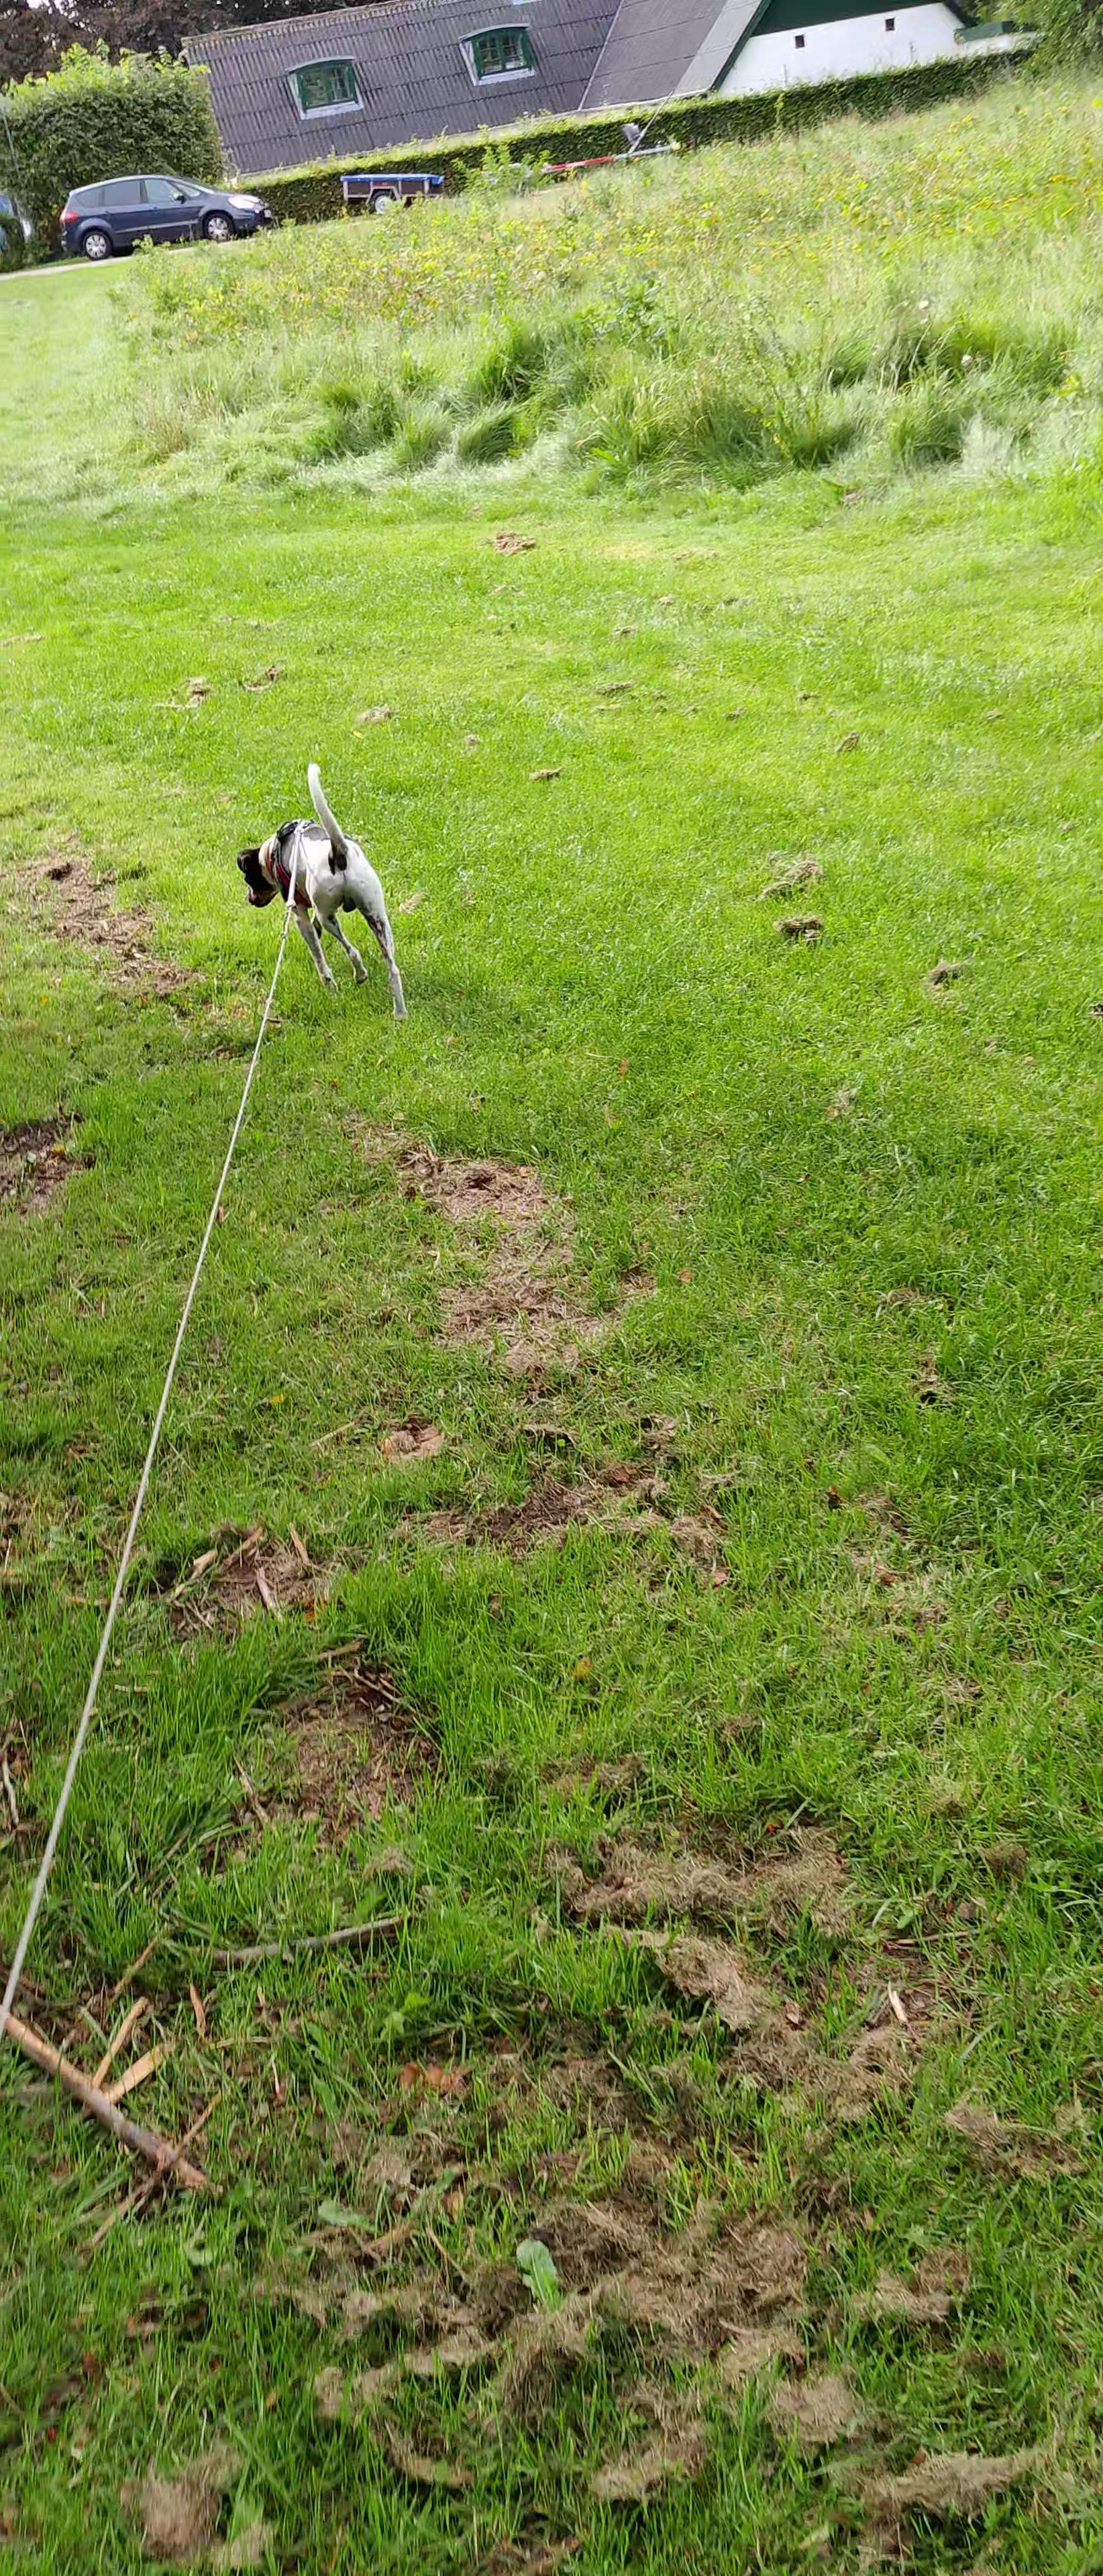Dog: (215, 752, 416, 1025)
